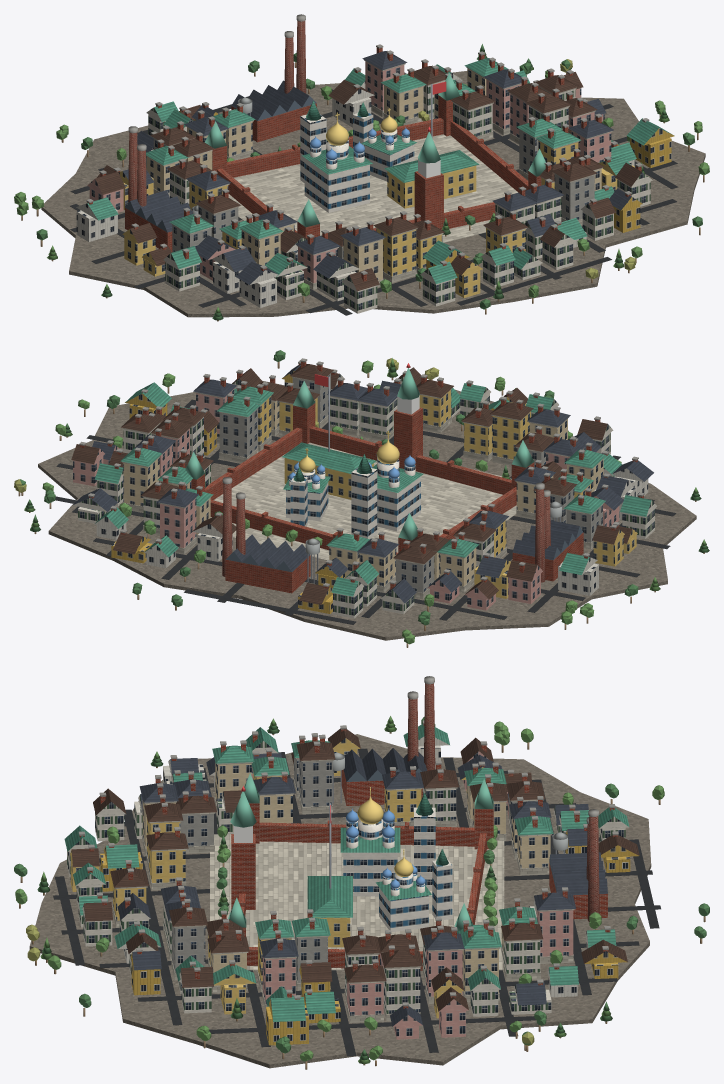
Rendered from city_east_capital.glb.
3 renders of one model, top to bottom at view 1: azimuth 30°, elevation 25°; view 2: azimuth 150°, elevation 25°; view 3: azimuth 270°, elevation 25°, orthographic. The views are drawn at different scales.
Parts seen in each view (by area): view 1: city_east_capital; view 2: city_east_capital; view 3: city_east_capital.
Boxes of the visible parts, left/top/right/bottom form: city_east_capital: left=14, top=14, right=709, bottom=321; city_east_capital: left=14, top=350, right=709, bottom=647; city_east_capital: left=14, top=676, right=709, bottom=1069.
Size of the model in its own units: 6.04 by 1.06 by 5.21.
29 materials, 17 textured.
